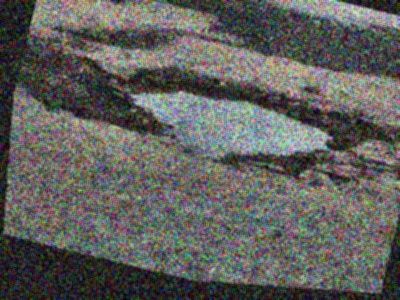pothole: (97, 45, 385, 198)
